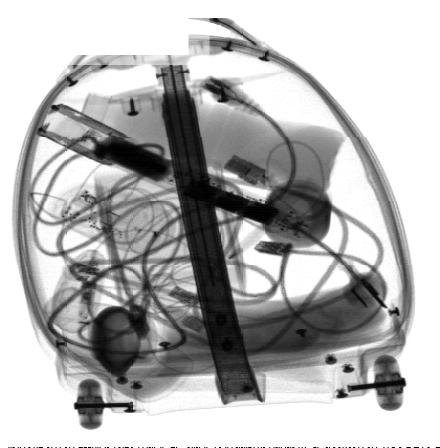Baton: (36, 104, 315, 242)
